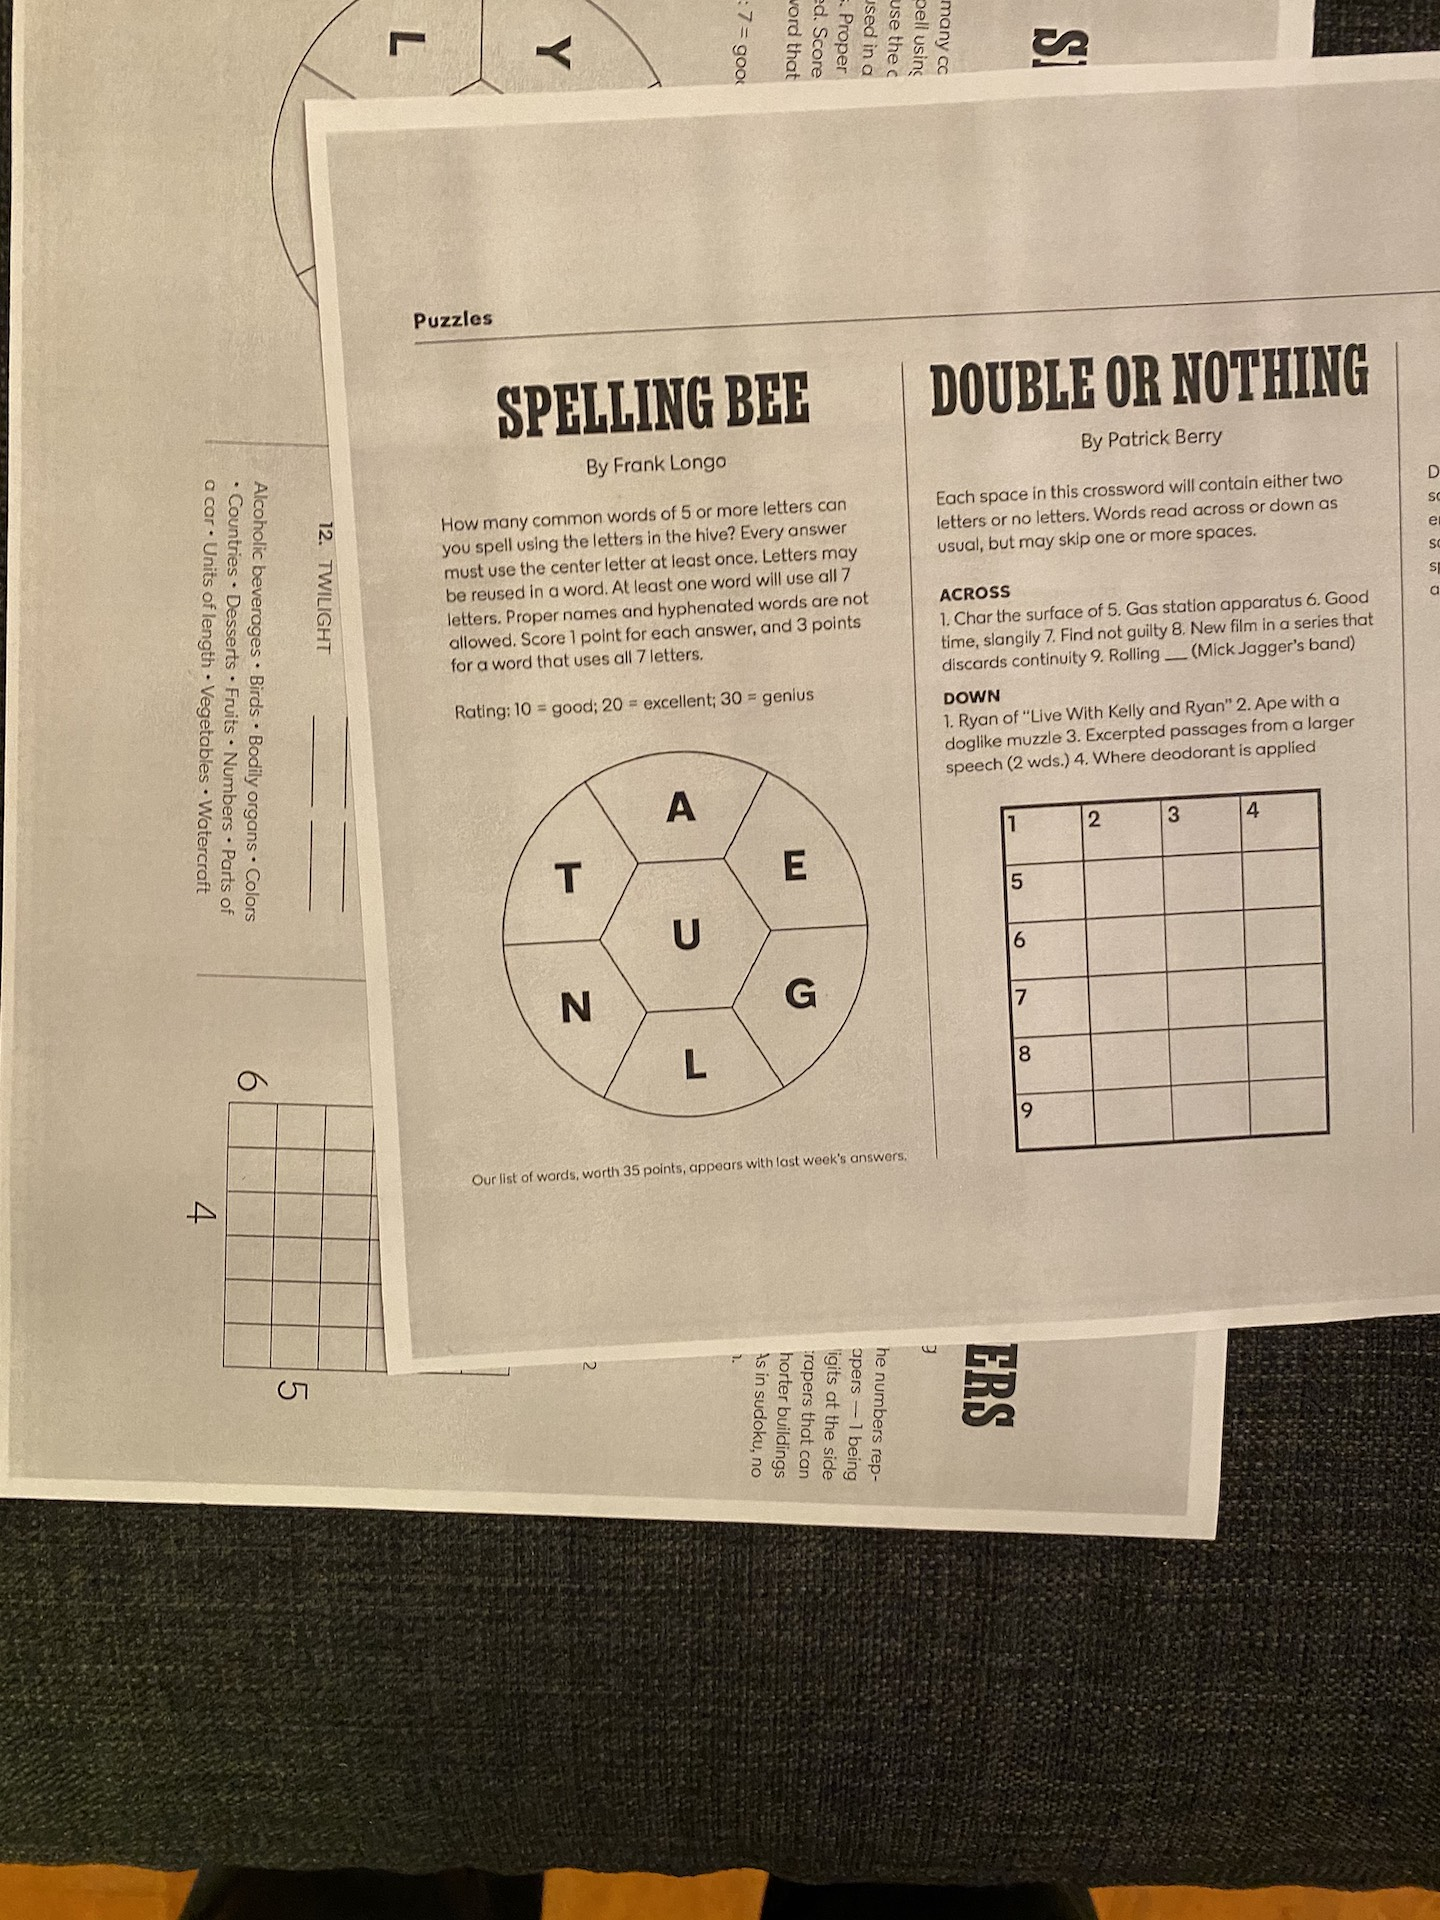PrintBoard: (464, 739, 883, 1129)
